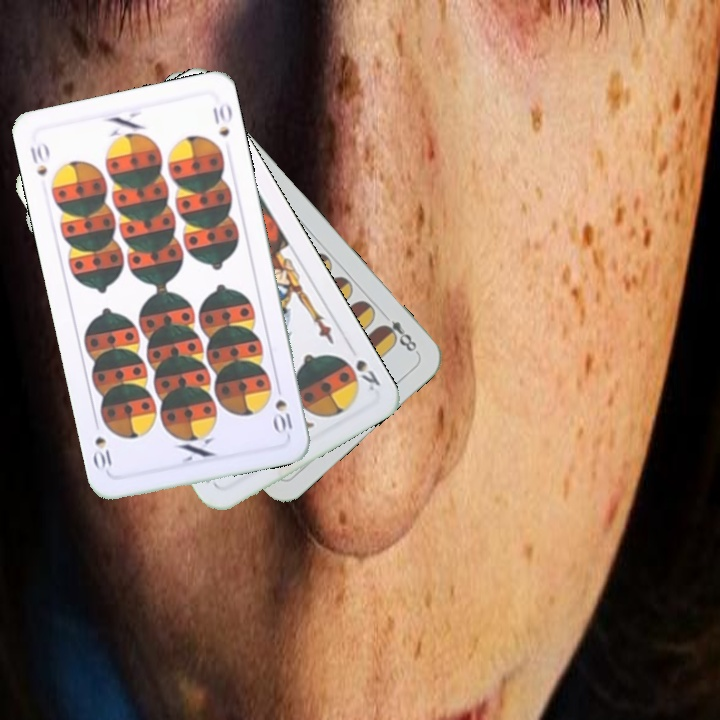E8: (376, 307, 421, 356)
S10: (26, 138, 52, 179), (270, 395, 295, 437)
SK: (339, 353, 383, 394)
